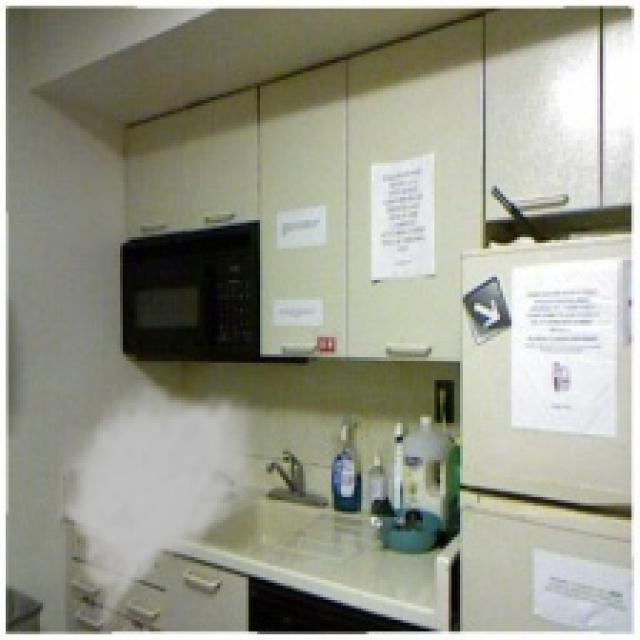Smoke: (55, 380, 272, 637)
